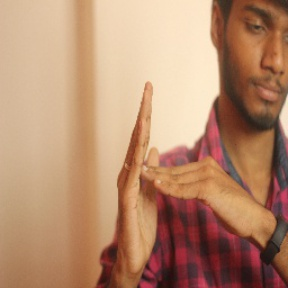Z: (107, 72, 253, 270)
